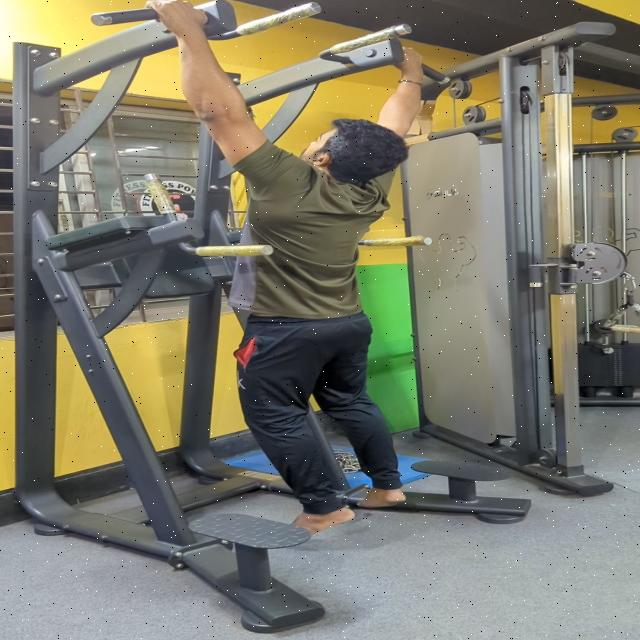Normal_PullUps: (121, 0, 524, 527)
